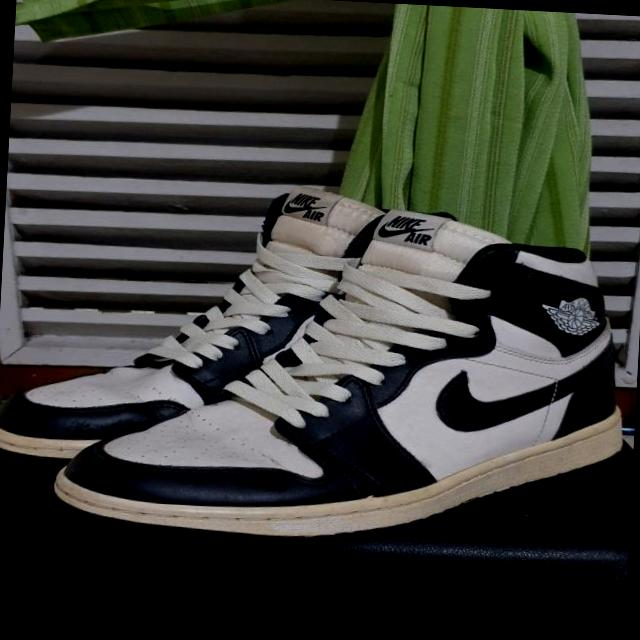nike_fake_jordan: (45, 192, 637, 575), (0, 176, 431, 492)
